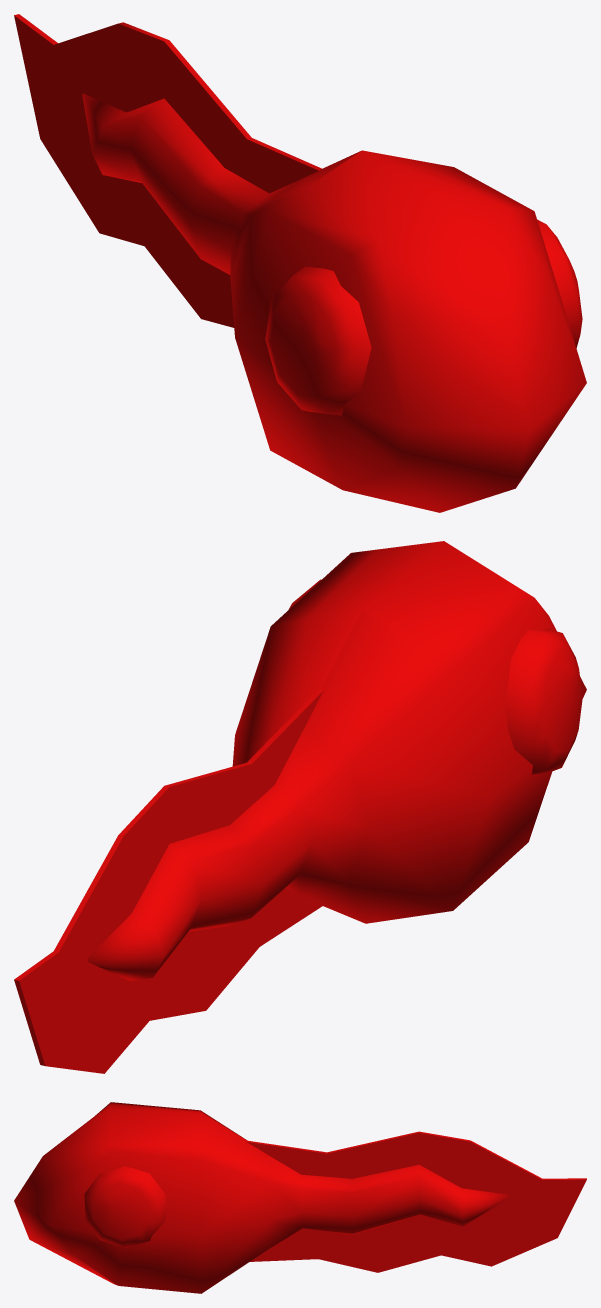
3 views of the same model, one above another, from view 1: azimuth 30°, elevation 25°; view 2: azimuth 150°, elevation 25°; view 3: azimuth 270°, elevation 25° (orthographic). The views are drawn at different scales.
Visible parts, largest first — view 1: Fish_Tadpole; view 2: Fish_Tadpole; view 3: Fish_Tadpole.
Boxes of the visible parts, x1,y1,x2,y2 form: Fish_Tadpole: (14, 14, 586, 512); Fish_Tadpole: (14, 541, 586, 1073); Fish_Tadpole: (14, 1102, 586, 1293).
Bounding box in the file's own units: 5.71 × 6.4 × 18.28.
